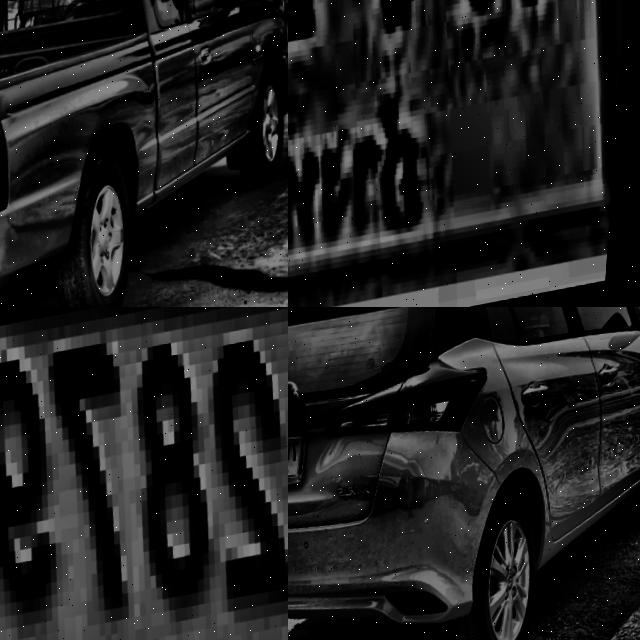license-plate: (288, 0, 640, 307), (0, 307, 288, 640), (288, 424, 314, 502)
